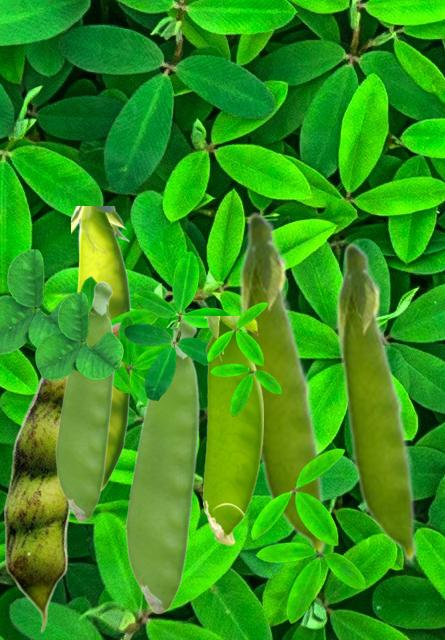pea: (4, 321, 123, 632), (238, 210, 326, 560), (335, 241, 418, 565), (125, 318, 199, 613), (71, 206, 131, 490), (55, 280, 114, 521), (203, 316, 262, 544)
